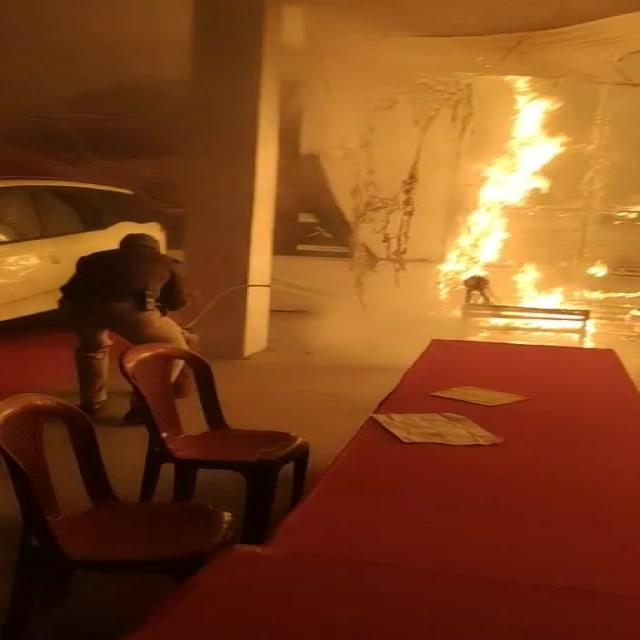Fire: (440, 96, 569, 283), (513, 265, 565, 310), (529, 318, 582, 330)
